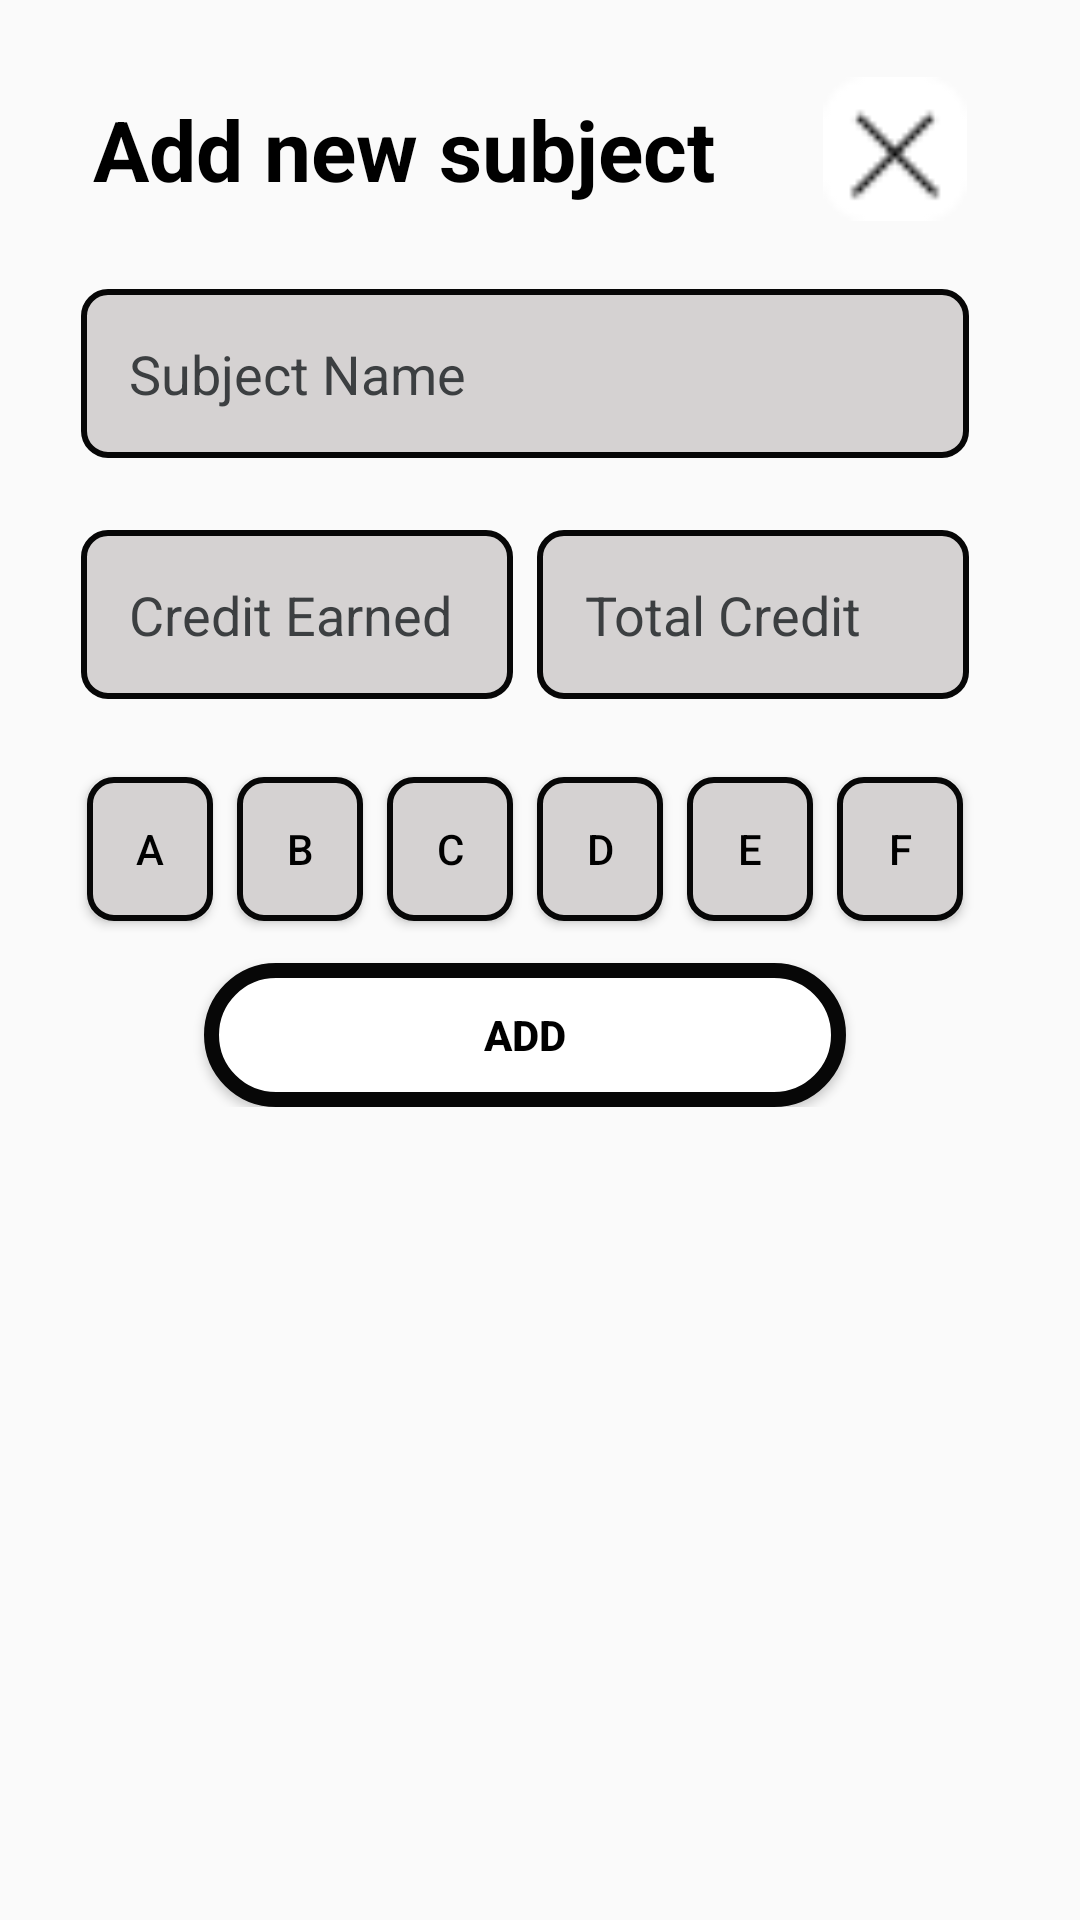

Where to tap for icons on this 1080 × 1920 app screen, as (x=x, y=y):
cross: (x=895, y=155)
